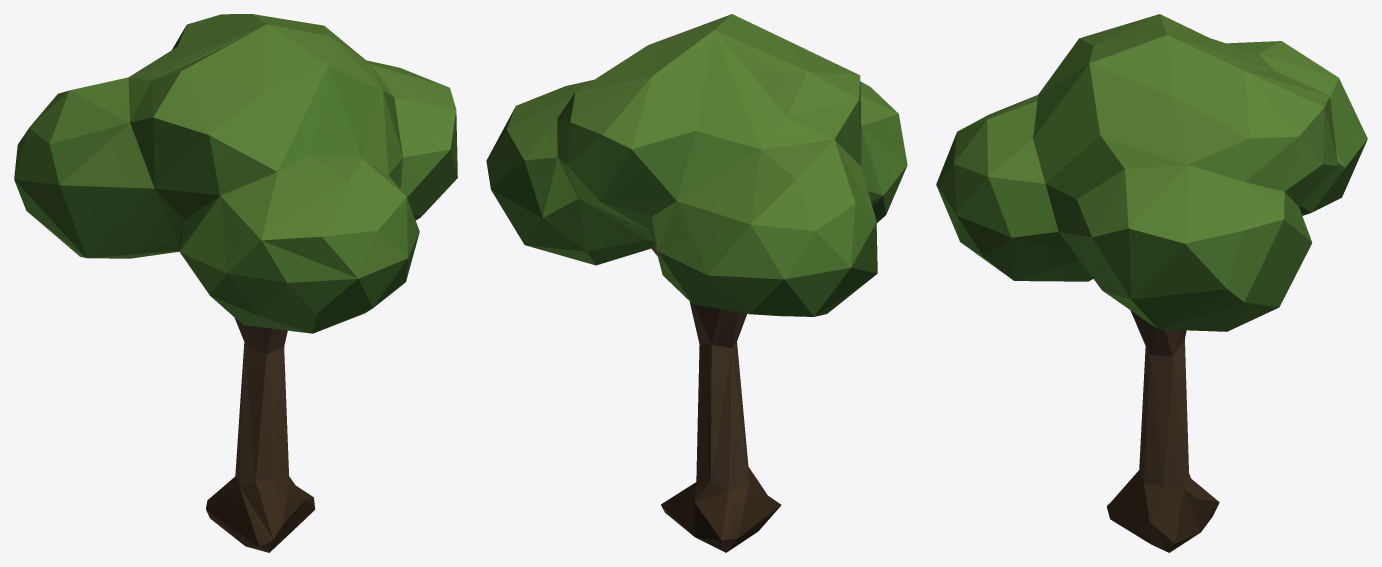
The model's file is oak.glb.
3 views of the same model, side by side, from view 1: azimuth 30°, elevation 25°; view 2: azimuth 150°, elevation 25°; view 3: azimuth 270°, elevation 25° (orthographic).
Parts seen in each view (by area): view 1: Oak; view 2: Oak; view 3: Oak.
Part boxes in pixels (left/top/right/bottom): Oak: left=14, top=14, right=457, bottom=552; Oak: left=486, top=14, right=907, bottom=552; Oak: left=936, top=14, right=1367, bottom=552.
Bounding box in the file's own units: 5.43 × 6.64 × 5.18.
